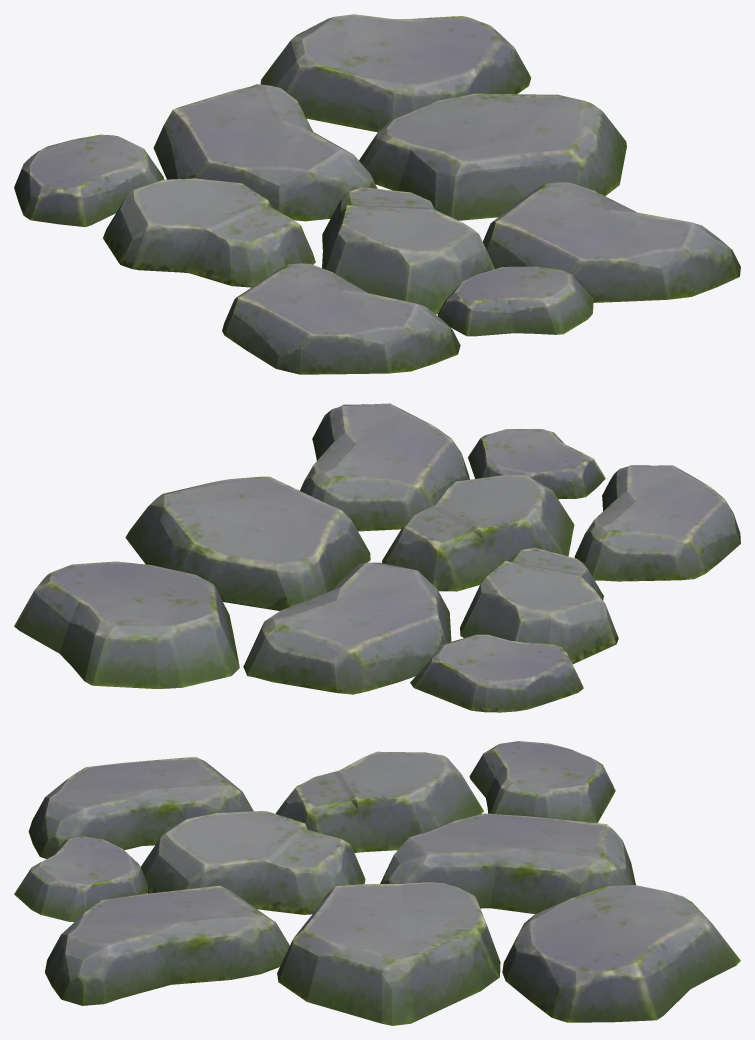
The model's file is RockPath_Round_Small_2.glb.
The picture shows the model from 3 angles, top to bottom: view 1: azimuth 30°, elevation 25°; view 2: azimuth 150°, elevation 25°; view 3: azimuth 270°, elevation 25°; orthographic projection. The views are drawn at different scales.
Size of the model in its own units: 1.14 by 0.1047 by 1.35.
Materials: 1 (1 with a texture image).
